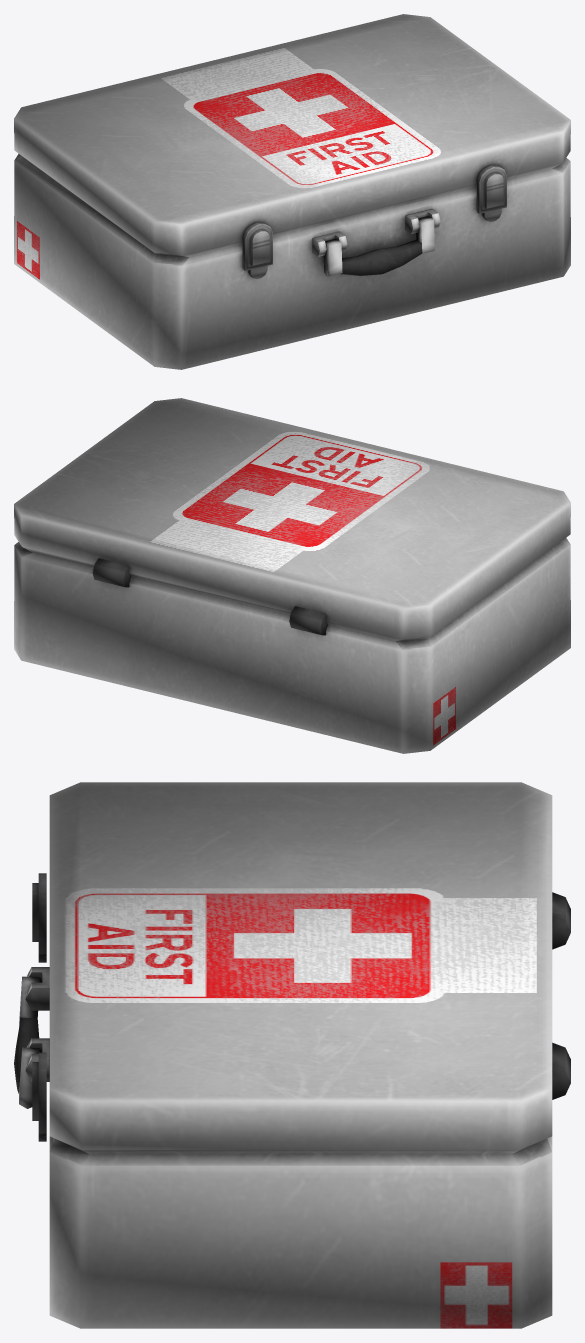
The model's file is MedKit.fbx.
3 views of the same model, one above another, from view 1: azimuth 30°, elevation 25°; view 2: azimuth 150°, elevation 25°; view 3: azimuth 270°, elevation 25° (orthographic). The views are drawn at different scales.
Visible parts, largest first — view 1: MedKit; view 2: MedKit; view 3: MedKit.
Boxes of the visible parts, x1,y1,x2,y2 form: MedKit: [14, 14, 570, 369]; MedKit: [14, 398, 570, 753]; MedKit: [14, 782, 570, 1328].
Size of the model in its own units: 3 by 1 by 2.22.
